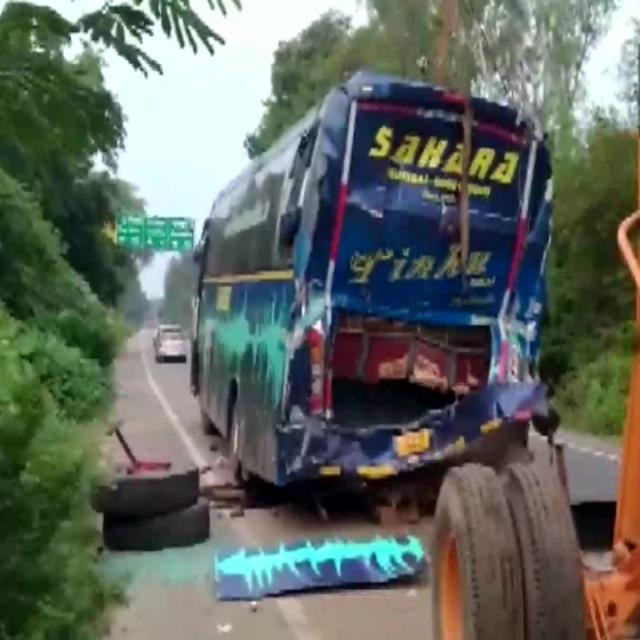accident: (191, 73, 550, 487)
